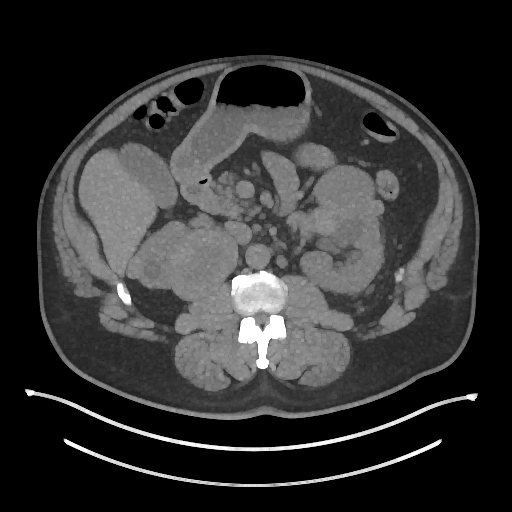Lesion: (165, 231, 239, 294)
